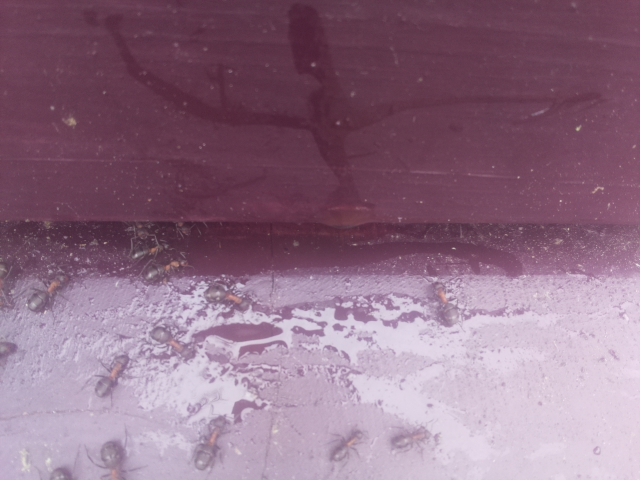ant: (19, 261, 77, 324), (88, 344, 136, 407), (142, 314, 194, 363), (189, 412, 228, 476), (195, 279, 258, 316), (425, 276, 465, 332), (94, 432, 134, 480), (327, 424, 371, 467), (135, 257, 195, 286), (387, 426, 433, 454), (126, 242, 167, 261)
